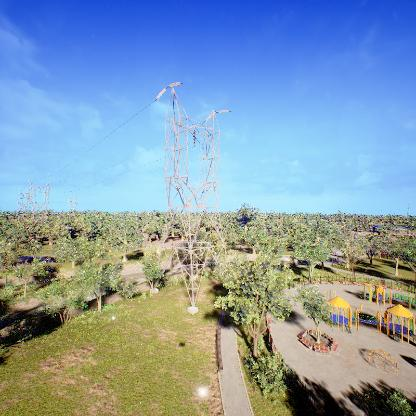tower: (149, 80, 247, 315)
